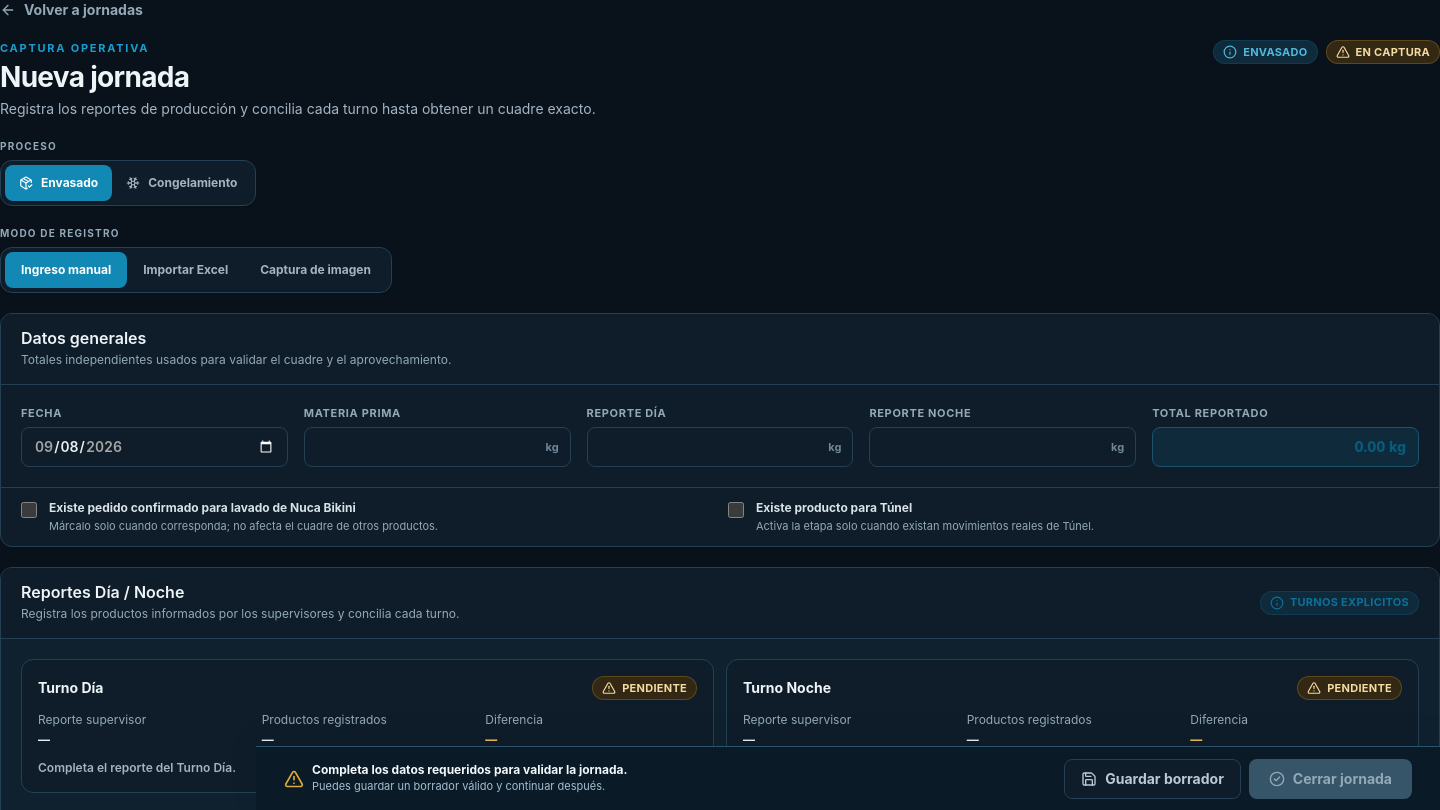
Test: ProductionEntryPage product selector › confirms a process change with data and restores independent drafts
Type "123" into the number field labelled "Materia prima kg".
click(437, 447); type("123")  # box [304, 427, 571, 467]
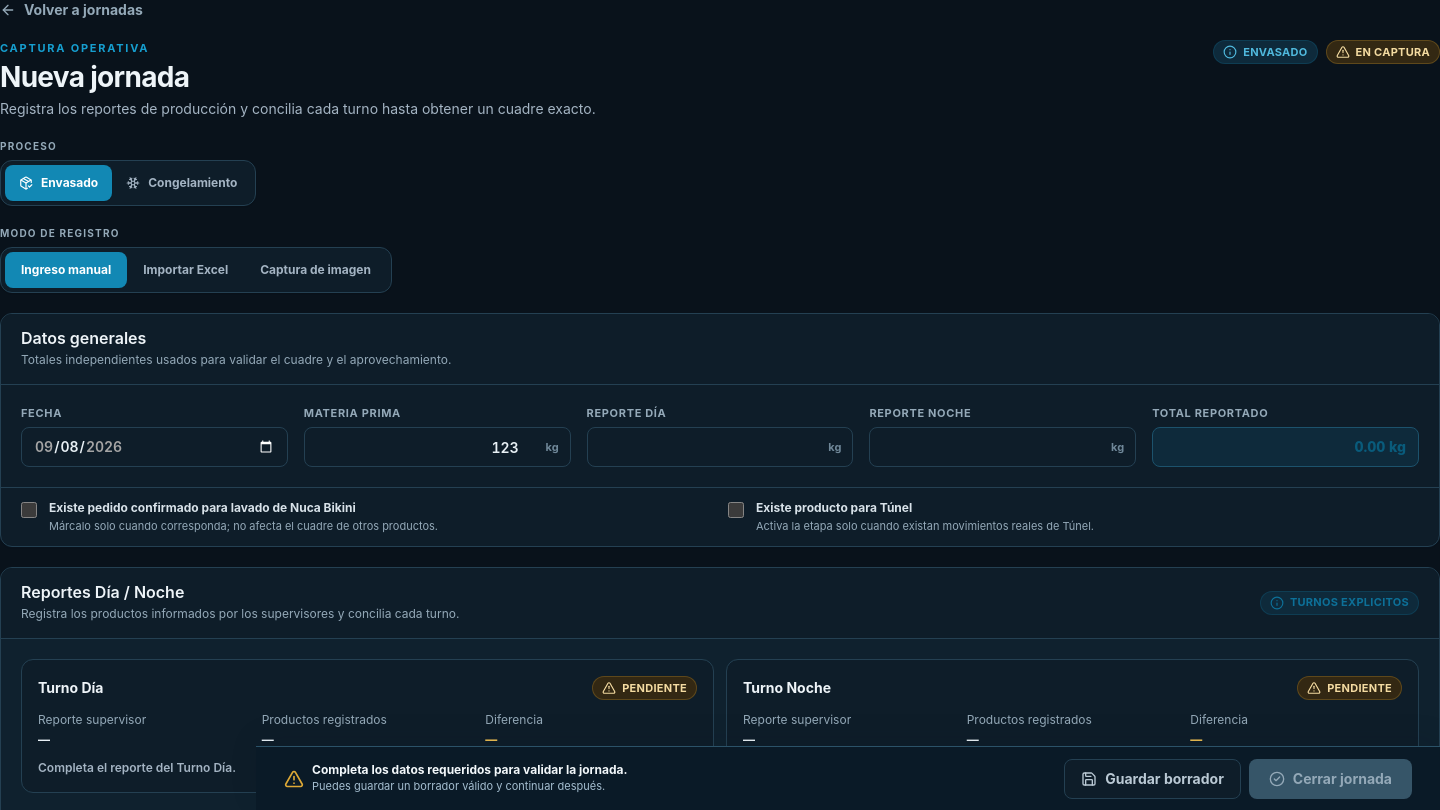
Click the tab "Congelamiento".
click(182, 182)  # box [112, 164, 251, 200]
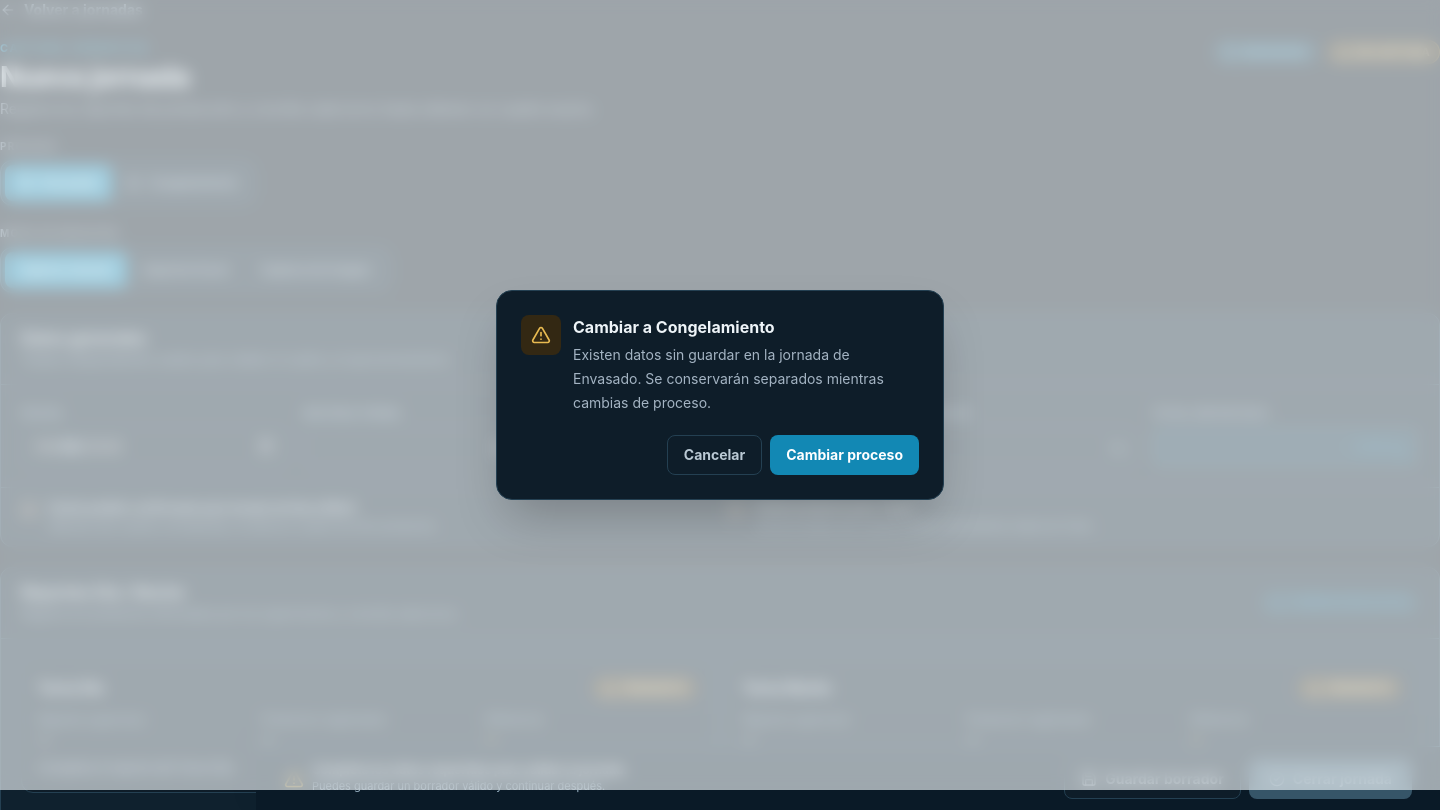
Click the button "Cambiar proceso".
click(845, 455)  # box [770, 435, 919, 475]
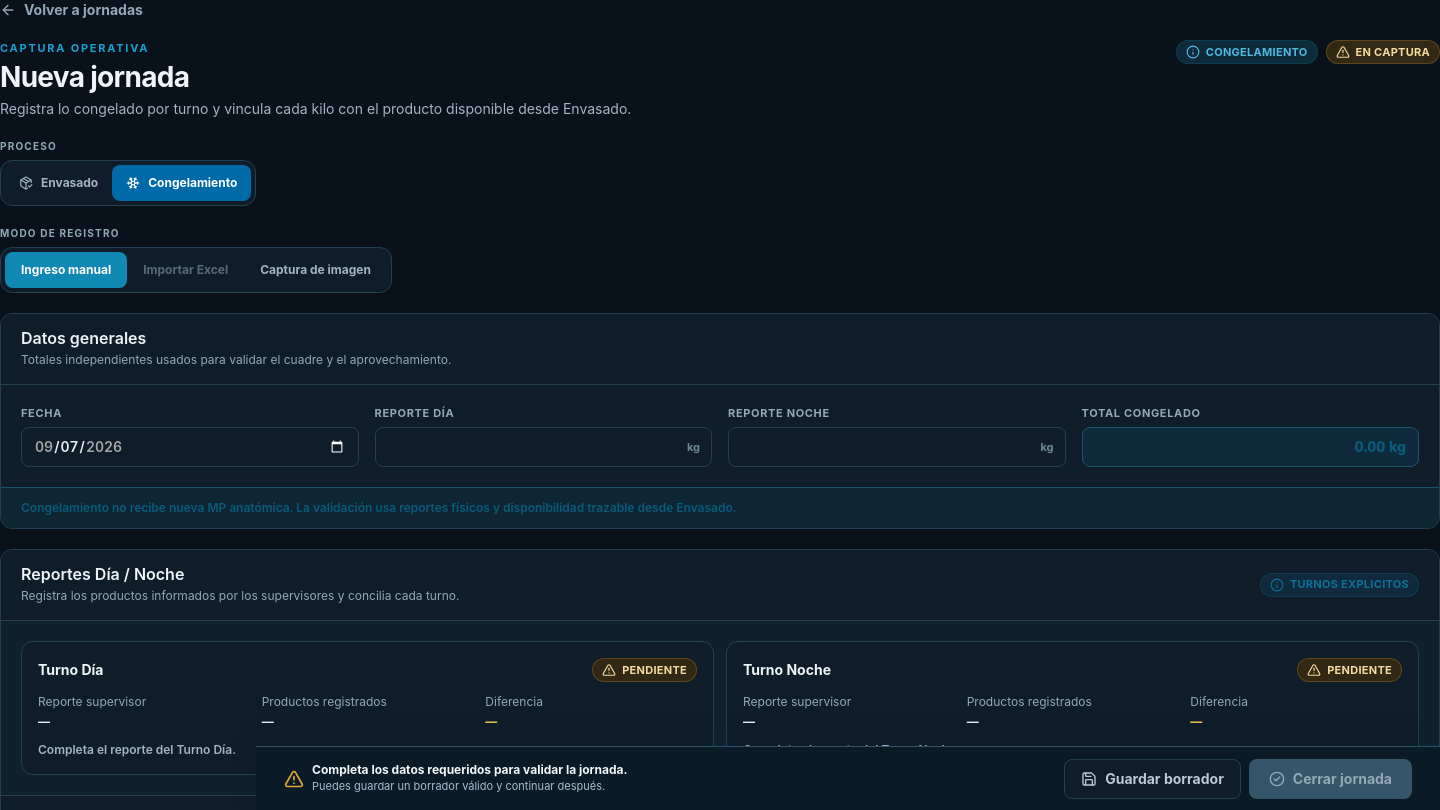
Type "45" into the number field labelled "Reporte Día kg".
click(543, 447); type("45")  # box [374, 427, 712, 467]
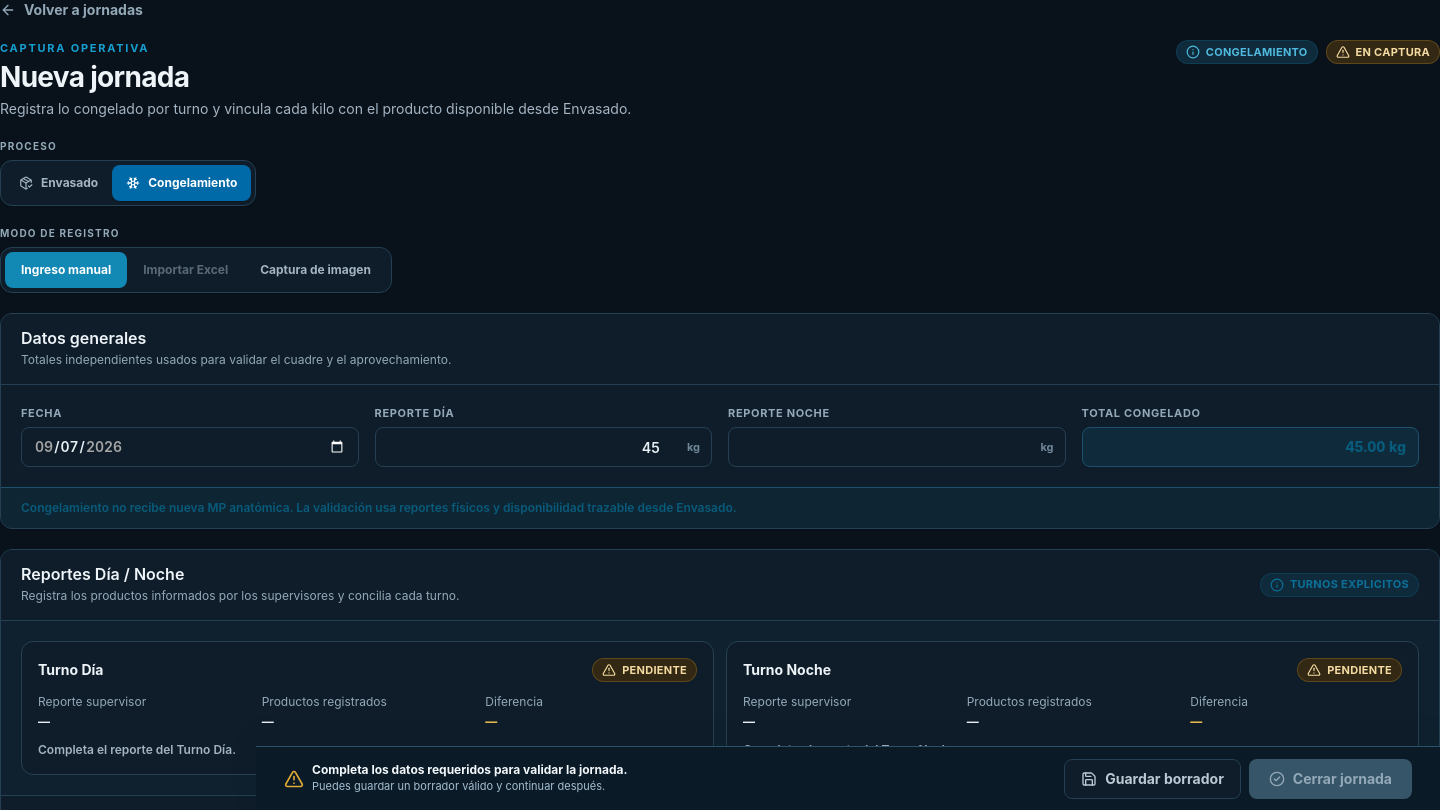
Click the tab "Envasado".
click(59, 182)  # box [5, 164, 112, 200]
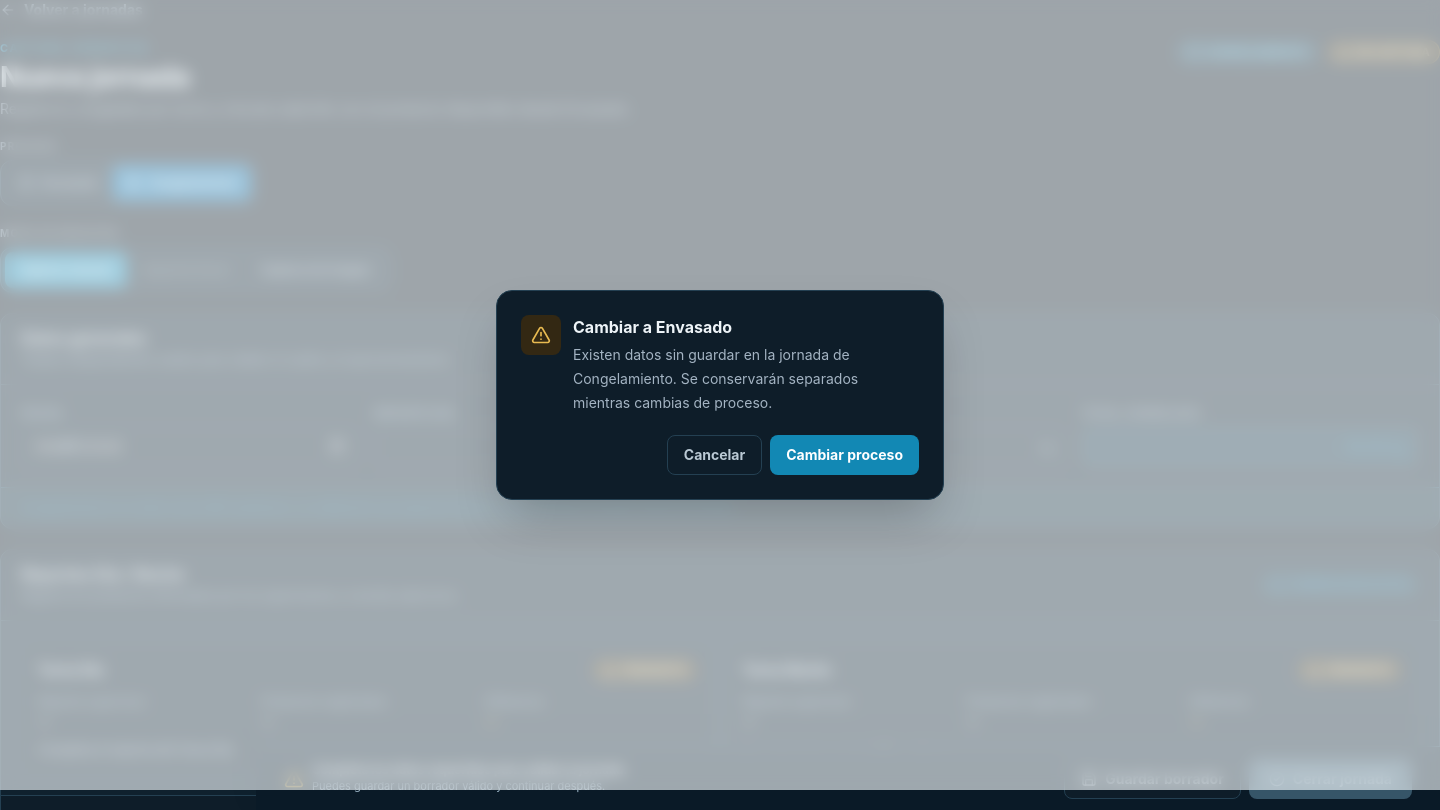
Click the button "Cambiar proceso".
click(845, 455)  # box [770, 435, 919, 475]
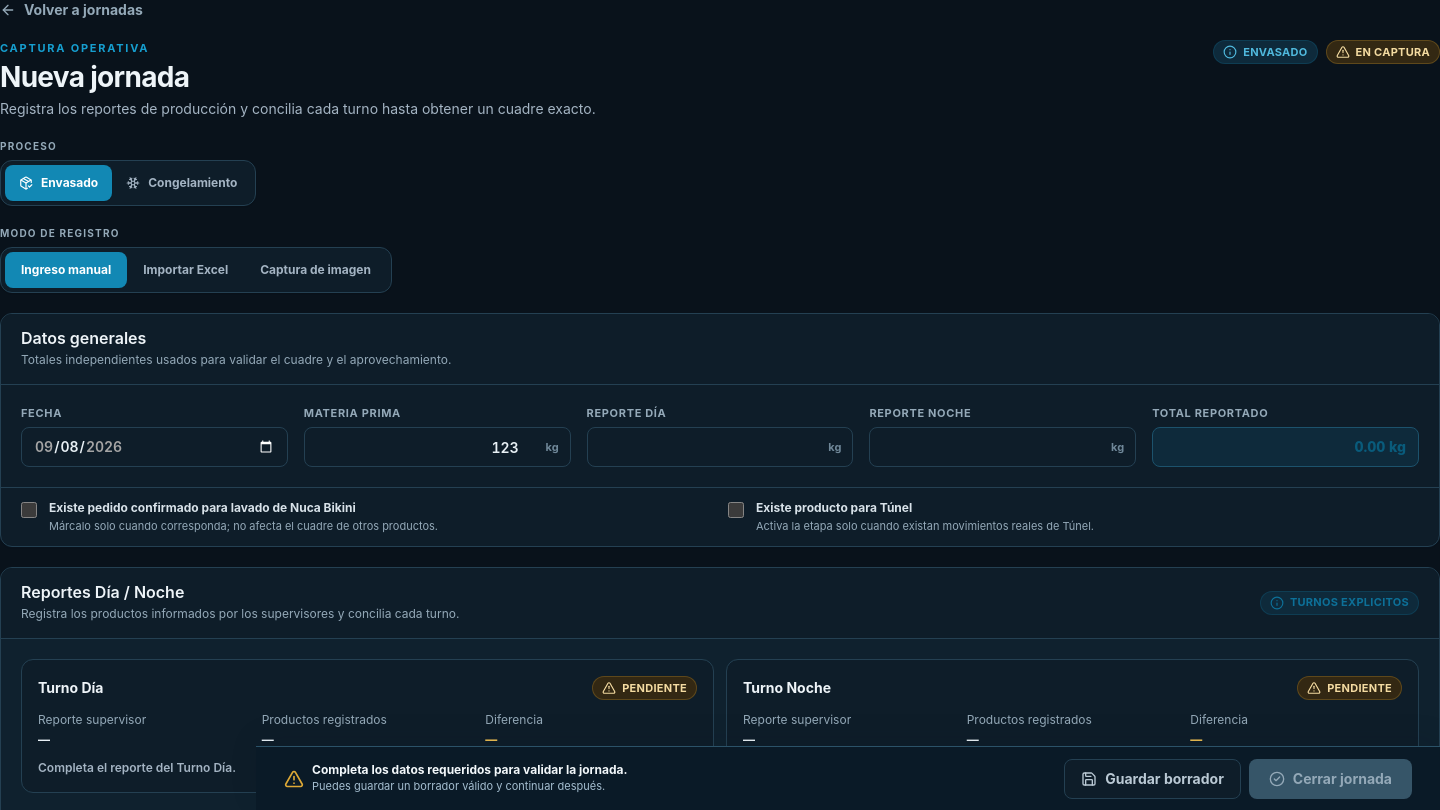
Result: the number field labelled "Materia prima kg" holds "123" at [304, 427, 571, 467]
Result: the number field labelled "Reporte Día kg" is not empty at [587, 427, 853, 467]
